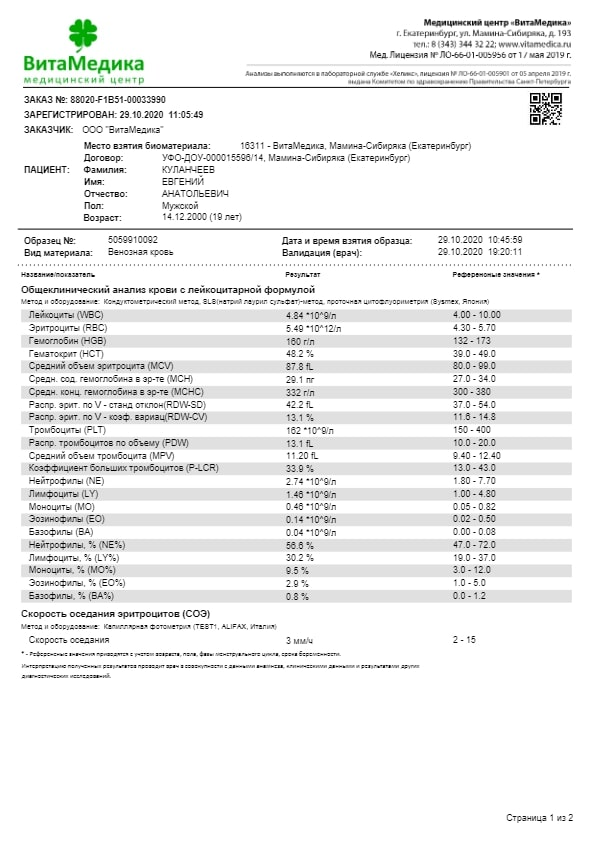column: (27, 309, 219, 601), (284, 309, 342, 601), (451, 309, 502, 601), (28, 634, 110, 644), (452, 270, 535, 278), (20, 270, 96, 278), (284, 270, 320, 278), (285, 634, 313, 644), (452, 634, 476, 644)
